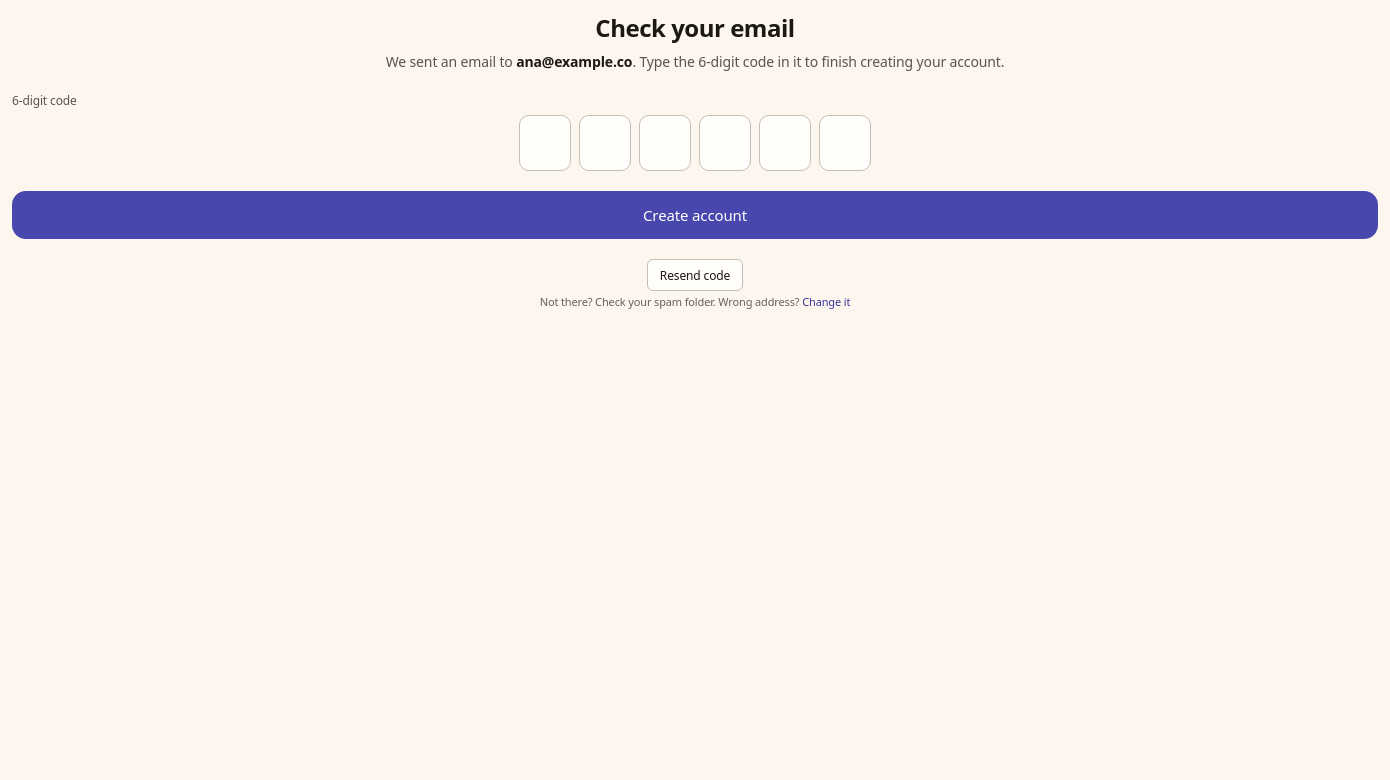
RegisterView › goes back to the form for another address, forgetting the sign-up here
Click the button "Change it": [826, 303] box [802,295,850,310]
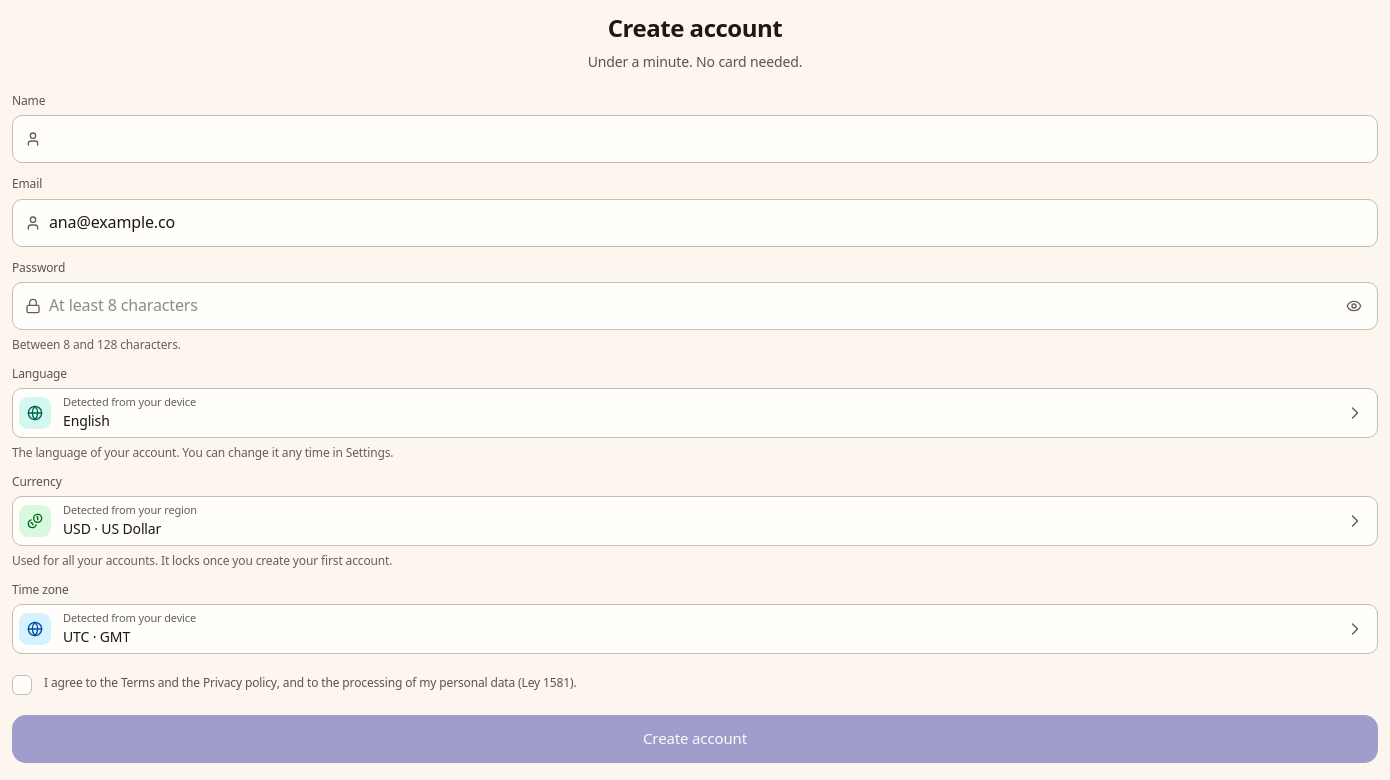
Now the field labelled "Email" holds "ana@example.co", box [49,211,1365,234]
Now the password field labelled "Password" is empty, box [49,294,1365,317]
